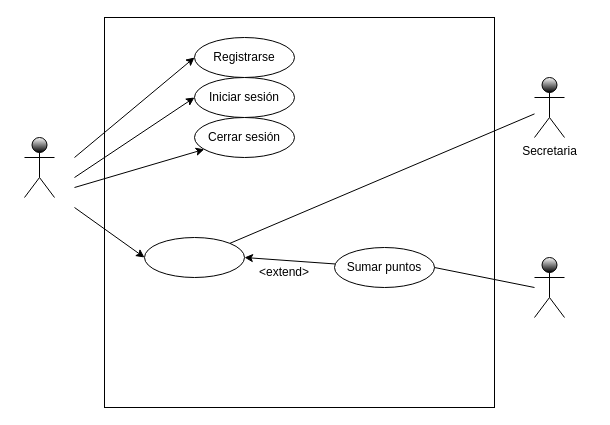
Some shapes in this 610 by 425 pixel diagram are drawn without their labels. Here are the shapes that lost their labels. From the top down, the centre of each, then its label:
At pixel 39 167: "Persona".
At pixel 194 257: "Registrar llegada".
At pixel 549 287: "Sistema externo".
